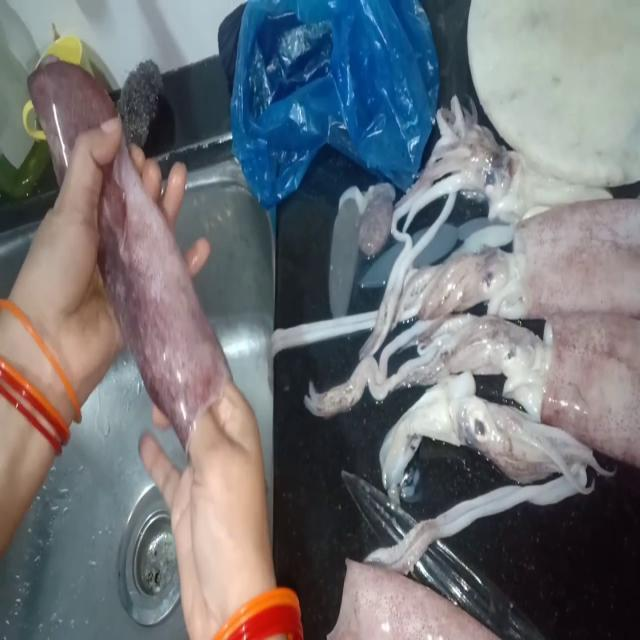squid: (388, 306, 640, 467), (396, 196, 640, 328)
